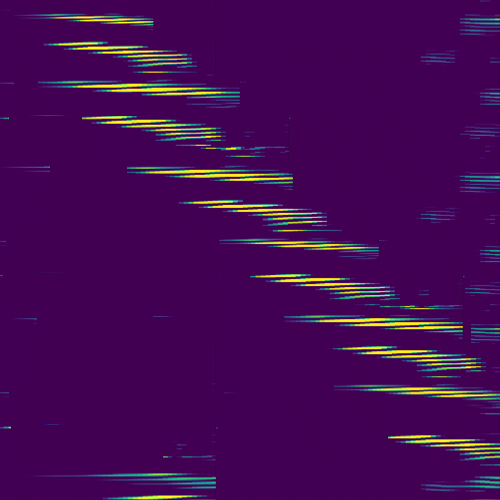semblance: (79, 113, 272, 160), (251, 272, 436, 312), (336, 343, 485, 380), (177, 197, 330, 233), (44, 41, 197, 76), (124, 163, 294, 186), (57, 80, 242, 101), (385, 432, 500, 462), (354, 382, 500, 402), (313, 316, 465, 334), (234, 236, 376, 254), (41, 10, 156, 30)
